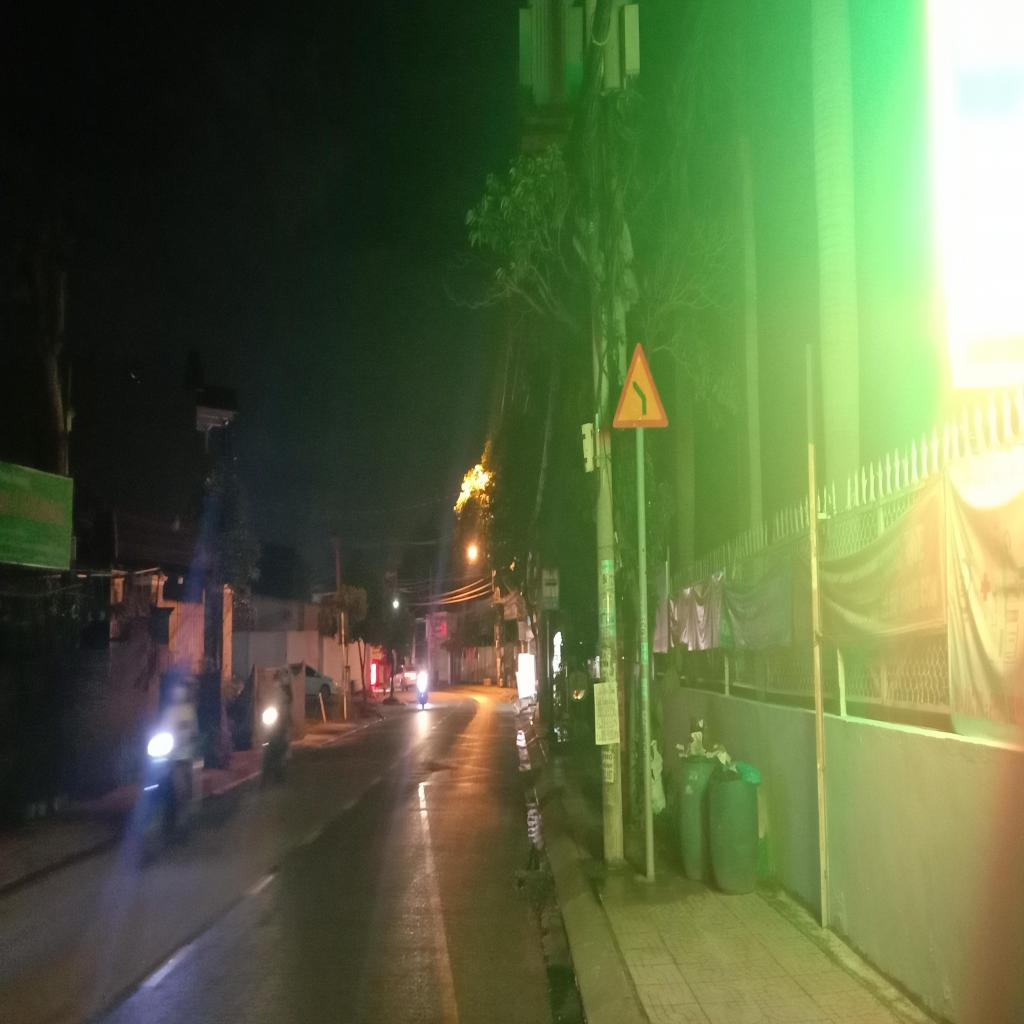cho_ngoat_nguy_hiem_ben_trai: (610, 338, 671, 428)
khac: (543, 566, 559, 609)
